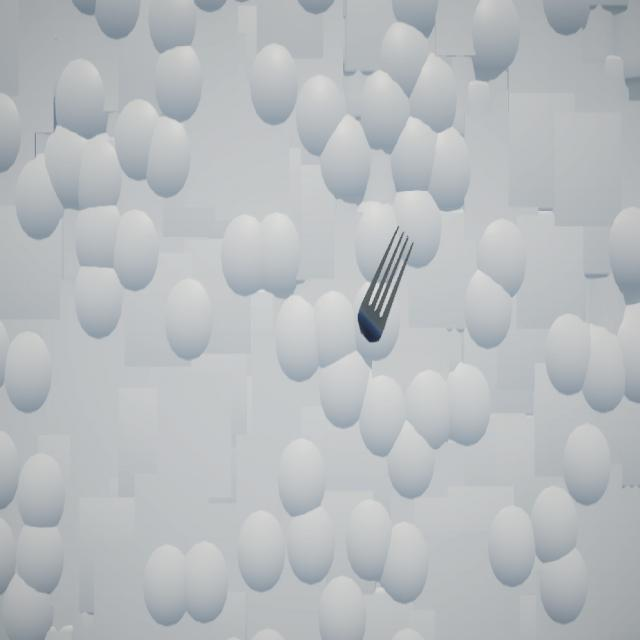top_folk: (358, 227, 415, 344)
